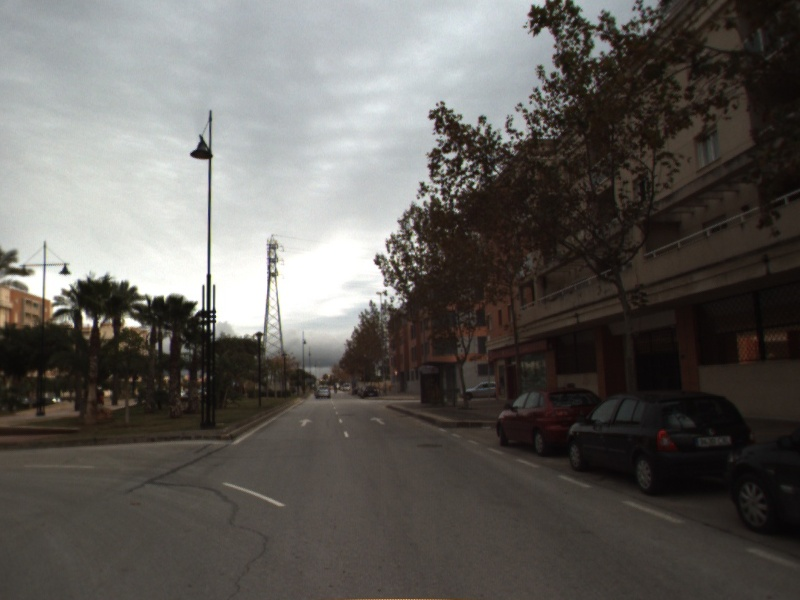STRAIGHT: (368, 415, 387, 427), (297, 416, 315, 428)
